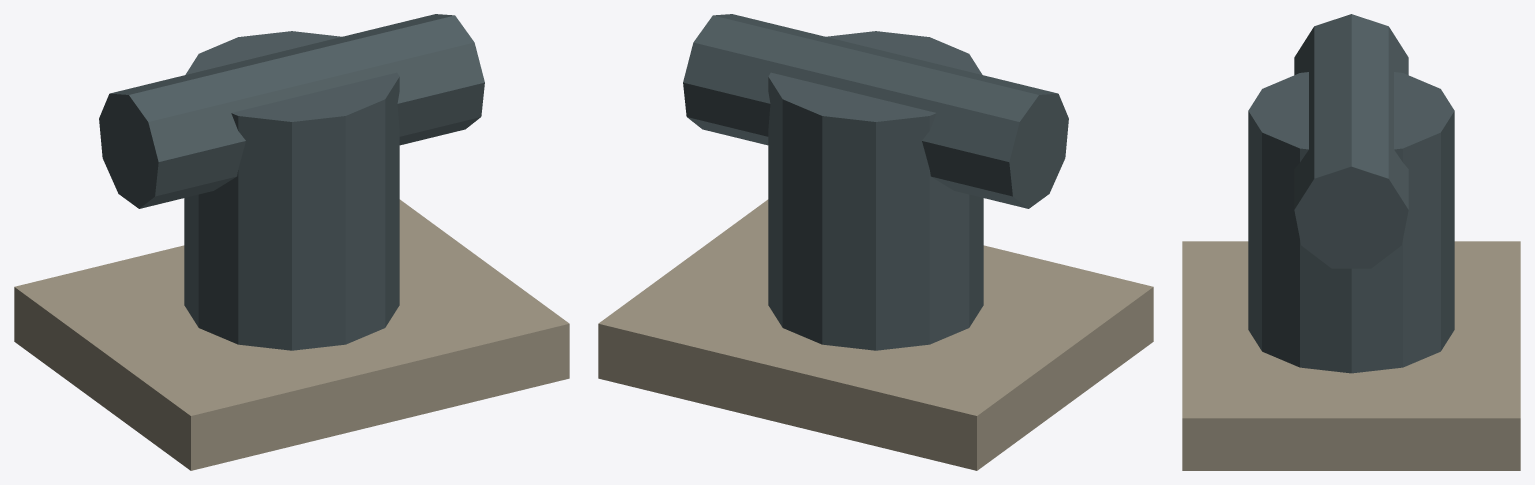
Rendered from 029_mooring_bollard.glb.
3 views of the same model, side by side, from view 1: azimuth 30°, elevation 25°; view 2: azimuth 150°, elevation 25°; view 3: azimuth 270°, elevation 25° (orthographic). The views are drawn at different scales.
Visible parts, largest first — view 1: Mooring bollard; view 2: Mooring bollard; view 3: Mooring bollard.
Boxes of the visible parts, box(x1,y1,x2,y2) form: Mooring bollard: box(14, 14, 569, 470); Mooring bollard: box(598, 14, 1153, 470); Mooring bollard: box(1182, 14, 1520, 470).
Size of the model in its own units: 1.3 by 1 by 1.05.
